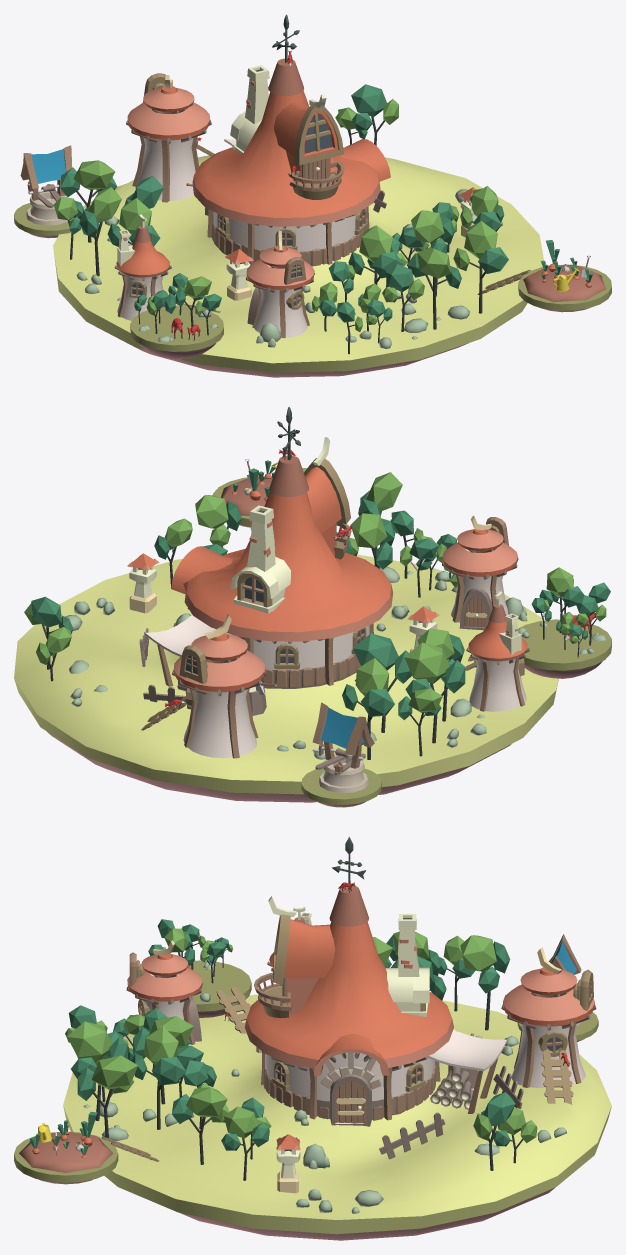
Rendered from fox-island.glb.
3 renders of one model, top to bottom at view 1: azimuth 30°, elevation 25°; view 2: azimuth 150°, elevation 25°; view 3: azimuth 270°, elevation 25°, orthographic. The views are drawn at different scales.
Visible parts, largest first — view 1: pCylinder11, polySurface11, polySurface1188, polySurface12, polySurface345, polySurface342, polySurface16, polySurface1054, pCube205, polySurface840, pSphere1, polySurface1208 (+29 smaller); view 2: pCylinder11, polySurface11, polySurface345, polySurface1188, pSphere1, polySurface342, polySurface1122, polySurface1054, polySurface12, polySurface838, polySurface16, polySurface1522 (+35 smaller); view 3: pCylinder11, polySurface11, polySurface16, polySurface12, polySurface342, pCube205, polySurface1054, pSphere1, polySurface900, polySurface1188, polySurface345, polySurface838 (+31 smaller).
Part boxes in pixels (x1,y1,x2,y2): pCylinder11: [53, 155, 543, 372]; polySurface11: [192, 90, 380, 226]; polySurface1188: [130, 305, 223, 351]; polySurface12: [213, 208, 366, 251]; polySurface345: [135, 110, 195, 200]; polySurface342: [127, 102, 210, 140]; polySurface16: [274, 100, 338, 182]; polySurface1054: [335, 84, 398, 145]; pCube205: [523, 264, 606, 302]; polySurface840: [254, 265, 307, 337]; pSphere1: [95, 326, 468, 377]; polySurface1208: [518, 264, 611, 310]; pCylinder11: [14, 554, 558, 794]; polySurface11: [183, 491, 393, 641]; polySurface345: [183, 659, 256, 758]; polySurface1188: [518, 619, 611, 670]; pSphere1: [47, 732, 511, 802]; polySurface342: [173, 650, 265, 692]; polySurface1122: [469, 658, 526, 711]; polySurface1054: [24, 596, 73, 681]; polySurface12: [244, 625, 369, 670]; polySurface838: [442, 542, 517, 576]; polySurface16: [305, 467, 341, 556]; polySurface1522: [301, 768, 381, 804]; pCylinder11: [63, 994, 611, 1234]; polySurface11: [244, 922, 453, 1068]; polySurface16: [284, 919, 335, 1014]; polySurface12: [265, 1052, 434, 1101]; polySurface342: [503, 984, 594, 1026]; pCube205: [19, 1131, 113, 1172]; polySurface1054: [473, 1092, 537, 1170]; pSphere1: [180, 1187, 555, 1240]; polySurface900: [427, 1030, 506, 1071]; polySurface1188: [188, 960, 251, 1011]; polySurface345: [511, 993, 585, 1087]; polySurface838: [127, 967, 202, 1001].
Bounding box in the file's own units: 54.94 × 36.4 × 58.8.
